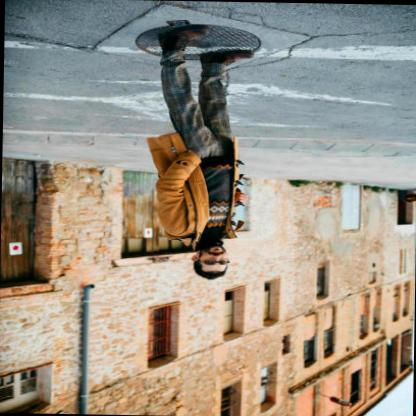manholes: (68, 0, 295, 102)
